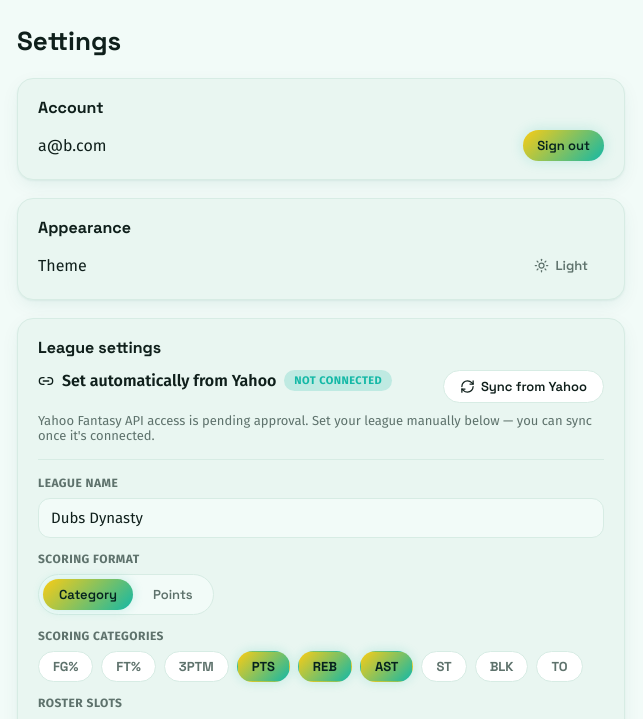
it: SettingsView › shows the not-connected Yahoo fallback message on sync
Expected: the field showing "Dubs Dynasty" is shown, [38,498,604,538]
Click the button "Sync from Yahoo": (523, 386) [443,370,604,403]
(page scrolled)
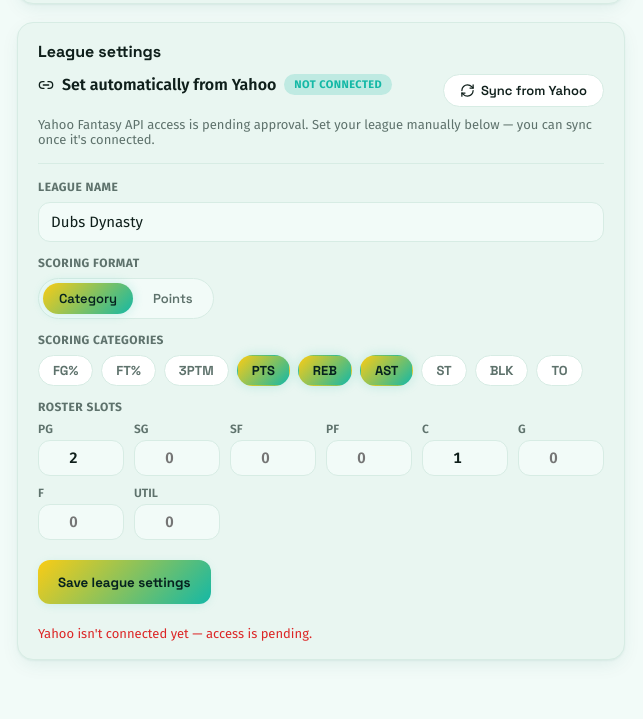
Result: the message shows "connected" at [38,626,312,641]
